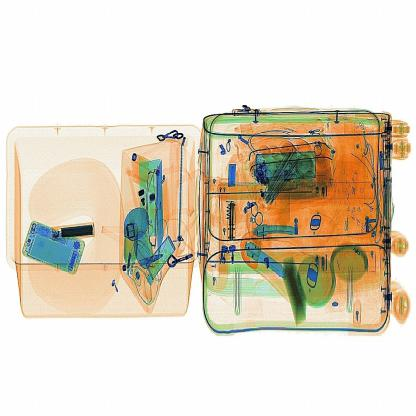scissors: (219, 194, 247, 249)
